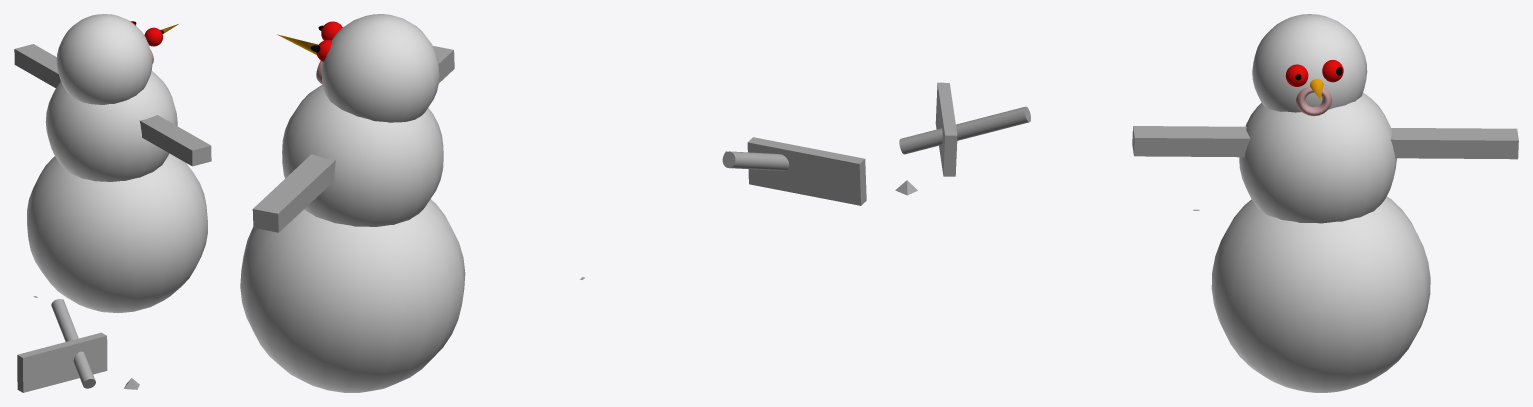
The model's file is Snowman_melts.fbx.
3 renders of one model, left to right at view 1: azimuth 30°, elevation 25°; view 2: azimuth 150°, elevation 25°; view 3: azimuth 270°, elevation 25°, orthographic. The views are drawn at different scales.
Parts seen in each view (by area): view 1: pPyramid2; view 2: pPyramid2; view 3: pPyramid2.
Boxes of the visible parts, box(x1,y1,x2,y2) form: pPyramid2: box(14, 14, 211, 392); pPyramid2: box(240, 14, 866, 392); pPyramid2: box(895, 14, 1518, 392).
Size of the model in its own units: 17.77 by 14.94 by 23.93.
